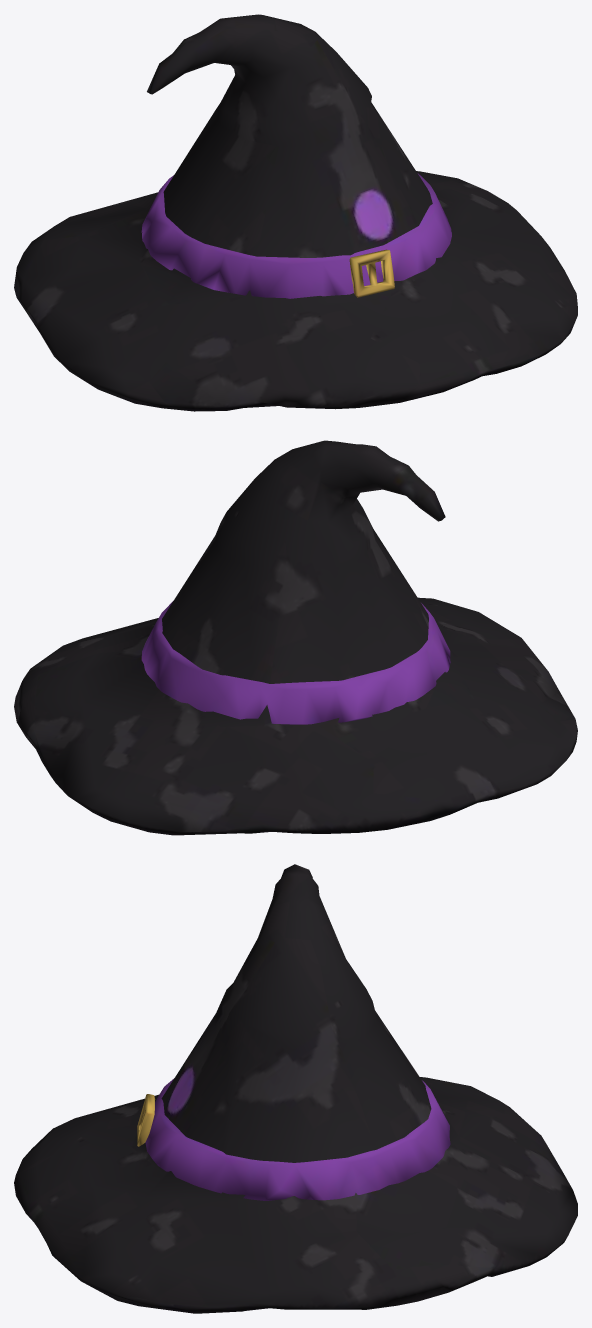
Rendered from witch-hat.glb.
3 views of the same model, one above another, from view 1: azimuth 30°, elevation 25°; view 2: azimuth 150°, elevation 25°; view 3: azimuth 270°, elevation 25° (orthographic).
Parts seen in each view (by area): view 1: hat; view 2: hat; view 3: hat.
Part boxes in pixels (<box>): hat: <box>14,14,577,411</box>; hat: <box>14,440,577,835</box>; hat: <box>14,864,577,1313</box>.
Bounding box in the file's own units: 0.7507 × 0.4592 × 0.7592.
1 material, 1 textured.
